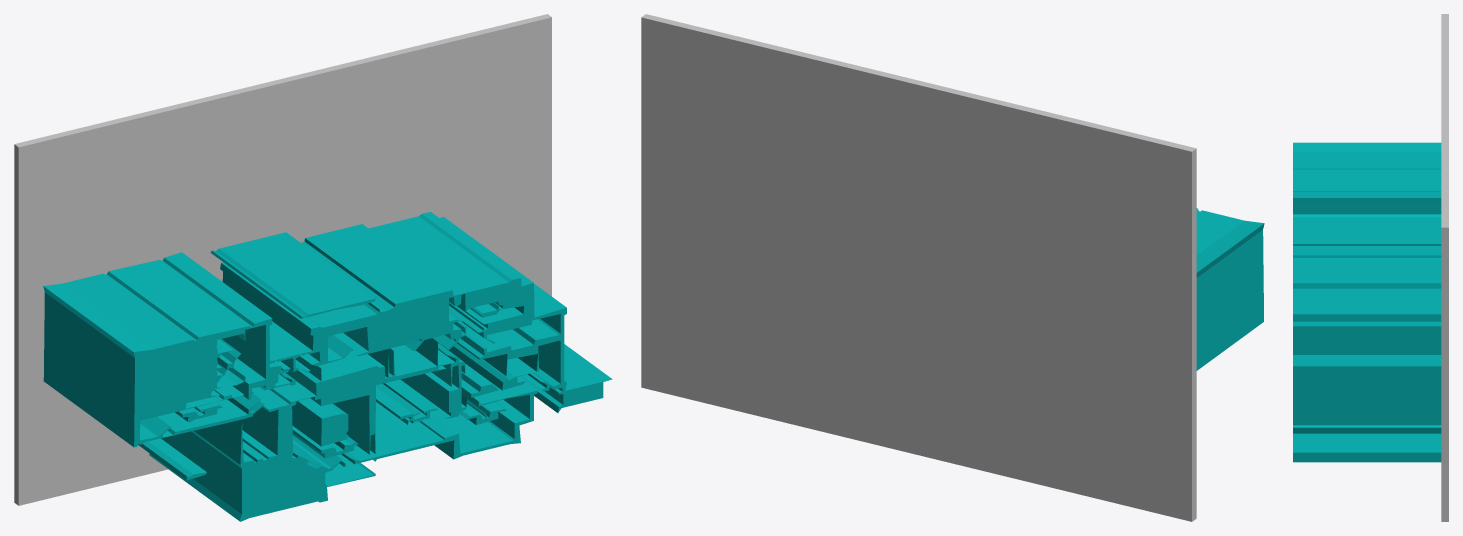
3 renders of one model, left to right at view 1: azimuth 30°, elevation 25°; view 2: azimuth 150°, elevation 25°; view 3: azimuth 270°, elevation 25°, orthographic. The views are drawn at different scales.
Visible parts, largest first — view 1: world; view 2: world; view 3: world.
Part boxes in pixels (box(x1,y1,x2,y2)): world: box(14, 14, 612, 521); world: box(641, 14, 1264, 521); world: box(1293, 14, 1448, 521).
Size of the model in its own units: 10.23 by 6.57 by 3.15.
